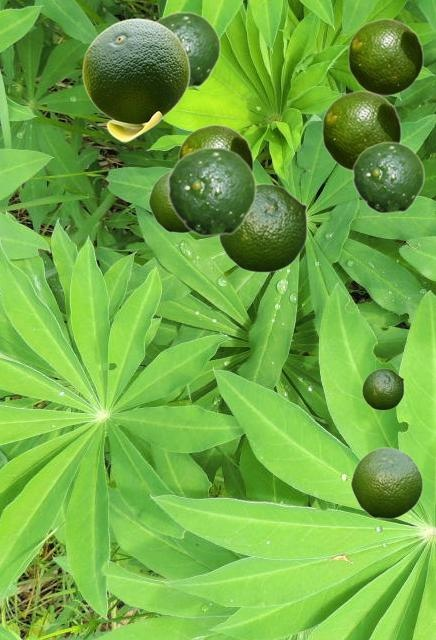calamansi: (82, 18, 189, 141), (167, 146, 256, 236), (218, 183, 307, 272), (321, 90, 401, 171), (347, 18, 423, 95), (350, 446, 422, 518), (352, 141, 424, 213), (156, 11, 220, 88), (177, 124, 253, 170), (148, 170, 189, 232), (362, 368, 403, 409)
